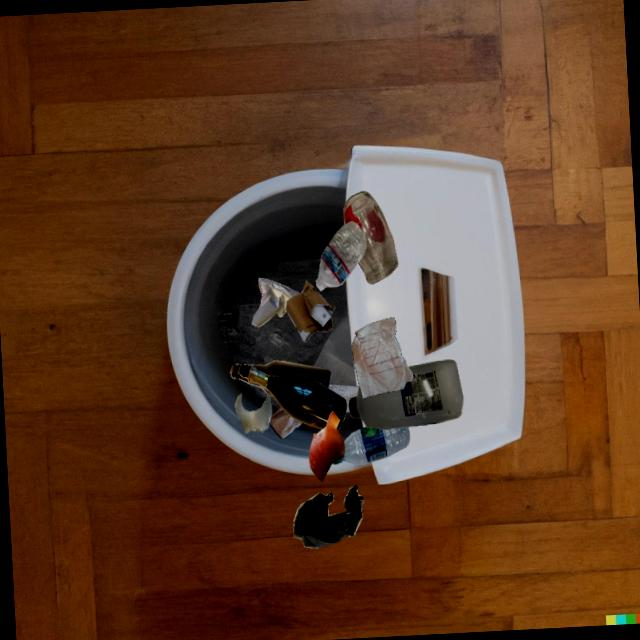biowaste: (309, 410, 345, 482)
cardboard: (286, 280, 335, 342)
glass: (238, 364, 347, 430), (344, 191, 398, 284), (244, 361, 331, 388), (235, 393, 272, 433)
paper: (352, 317, 414, 399), (251, 278, 299, 327), (269, 406, 302, 439), (328, 384, 359, 412)
plastic: (349, 360, 464, 430), (294, 485, 364, 548), (316, 222, 367, 291), (332, 426, 410, 465)
